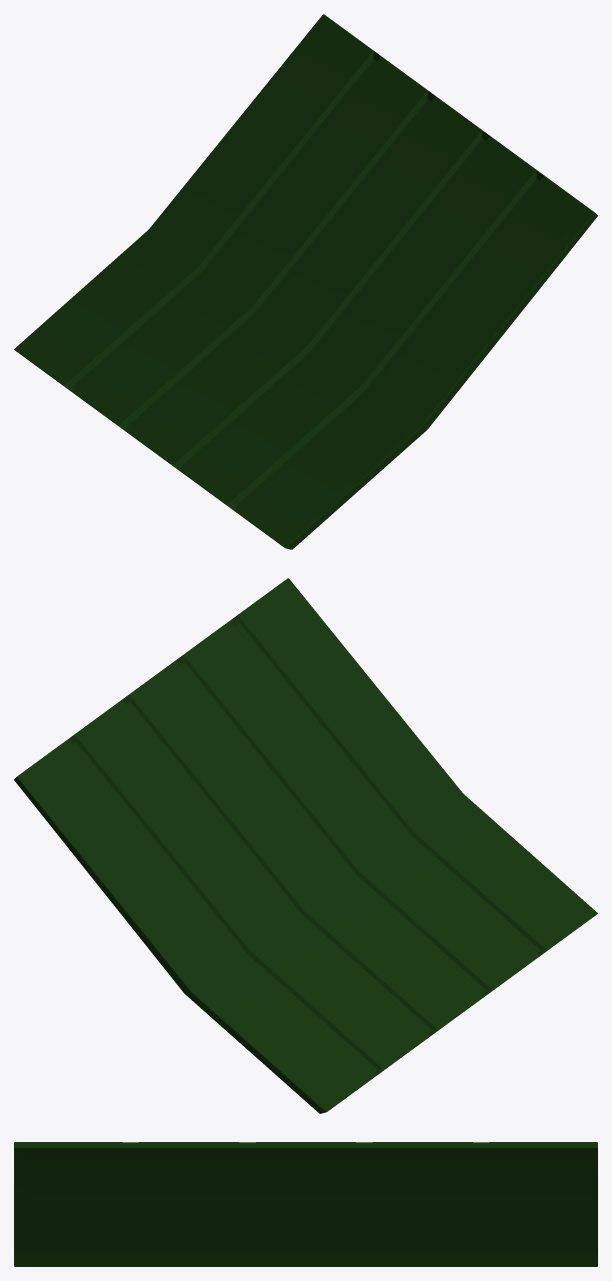
Rendered from FM_H_SH_02_Roof_01_001.fbx.
3 views of the same model, one above another, from view 1: azimuth 30°, elevation 25°; view 2: azimuth 150°, elevation 25°; view 3: azimuth 270°, elevation 25° (orthographic). The views are drawn at different scales.
Visible parts, largest first — view 1: FM_H_Small_house_02_Roof_01_001; view 2: FM_H_Small_house_02_Roof_01_001; view 3: FM_H_Small_house_02_Roof_01_001.
Boxes of the visible parts, left/top/right/bottom form: FM_H_Small_house_02_Roof_01_001: left=14, top=14, right=597, bottom=549; FM_H_Small_house_02_Roof_01_001: left=14, top=578, right=597, bottom=1113; FM_H_Small_house_02_Roof_01_001: left=14, top=1142, right=597, bottom=1266.
Bounding box in the file's own units: 5.14 × 4.13 × 7.72.
